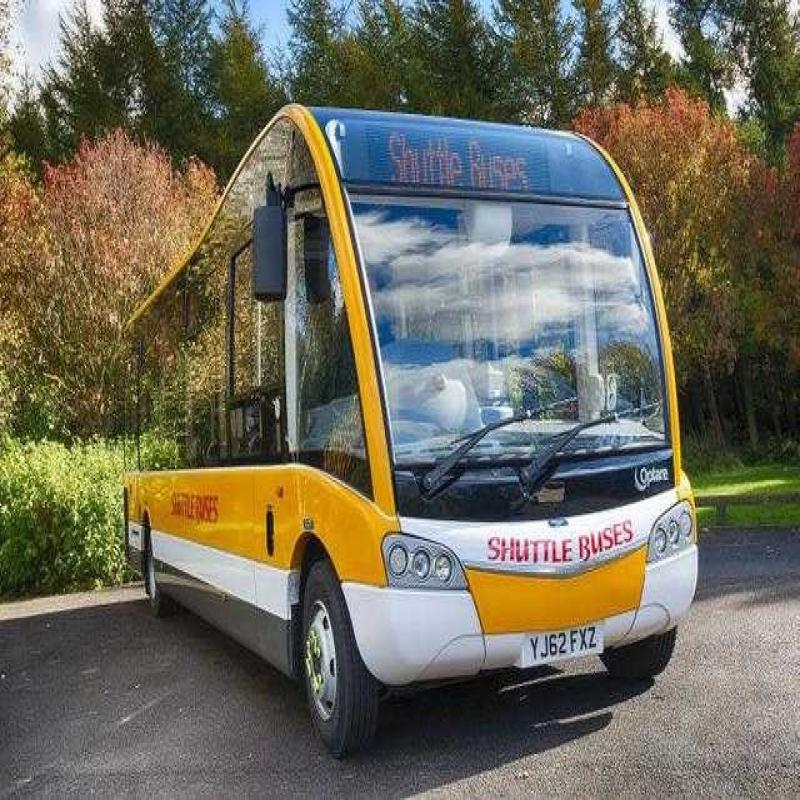bus: (121, 69, 682, 799)
